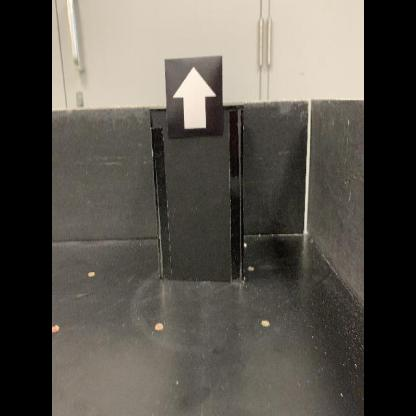up: (164, 55, 226, 141)
